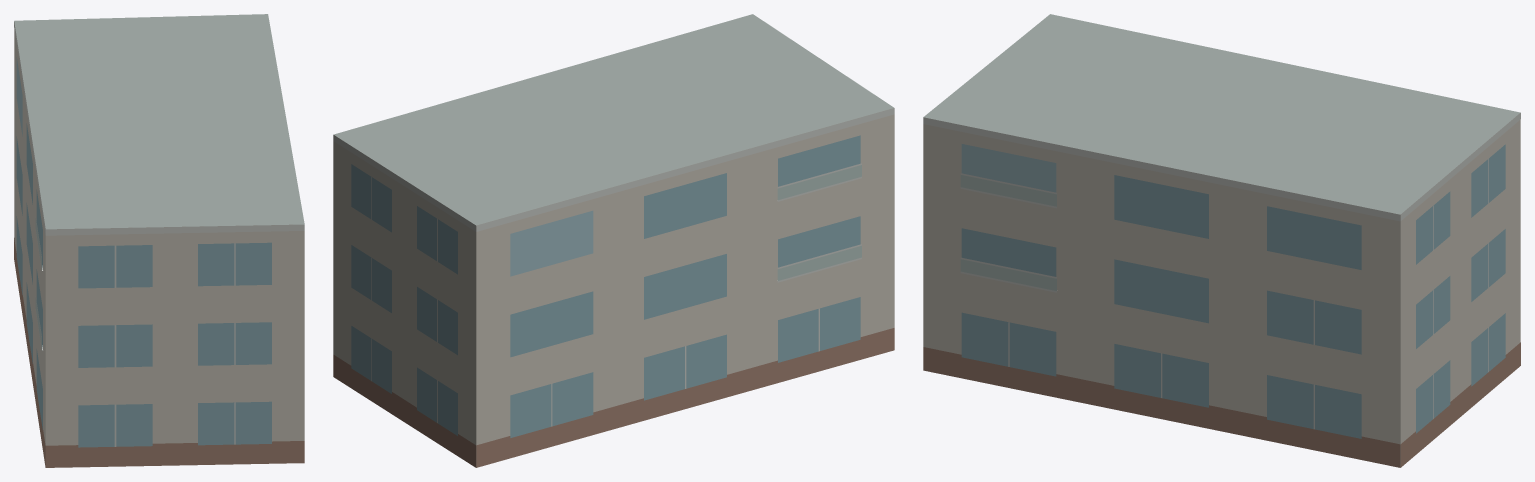
Rendered from survey-upis-32705018.glb.
The picture shows the model from 3 angles, left to right: view 1: azimuth 30°, elevation 25°; view 2: azimuth 150°, elevation 25°; view 3: azimuth 270°, elevation 25°; orthographic projection. The views are drawn at different scales.
Parts seen in each view (by area): view 1: survey-upis-32705018.tmp; view 2: survey-upis-32705018.tmp; view 3: survey-upis-32705018.tmp.
Part boxes in pixels (<box>): survey-upis-32705018.tmp: <box>14,14,304,467</box>; survey-upis-32705018.tmp: <box>333,14,894,467</box>; survey-upis-32705018.tmp: <box>923,14,1520,467</box>.
Bounding box in the file's own units: 15.56 × 9.15 × 19.58.
